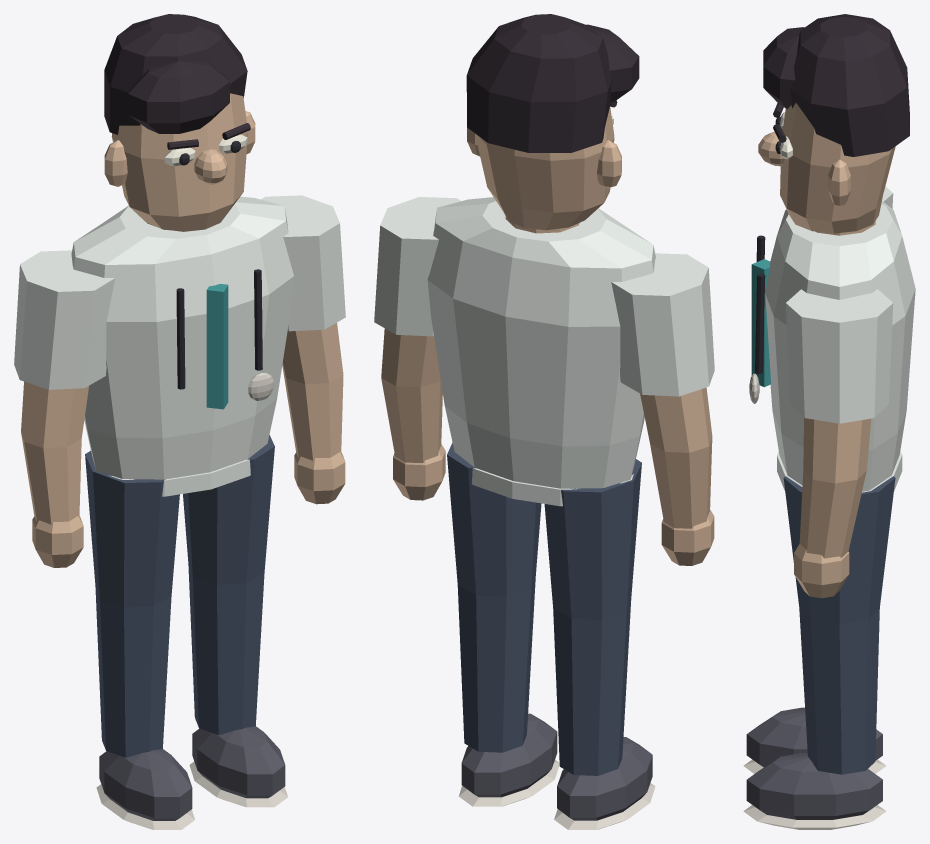
File: douglas.glb
3 views of the same model, side by side, from view 1: azimuth 30°, elevation 25°; view 2: azimuth 150°, elevation 25°; view 3: azimuth 270°, elevation 25° (orthographic). The views are drawn at different scales.
Visible parts, largest first — view 1: Torso, Leg, Leg.001, Sleeve, Face, Hair, Arm, Sleeve.001, Arm.001, Fringe, Shoe.001, Shoe (+10 smaller); view 2: Torso, Leg, Leg.001, Hair, Sleeve, Face, Arm, Sleeve.001, Arm.001, Shoe.001, Shoe, Hand (+6 smaller); view 3: Torso, Leg.001, Hair, Sleeve.001, Face, Arm.001, Shoe.001, Shoe, Fringe, Hand.001, Sole.001, Gravata (+4 smaller).
Boxes of the visible parts, x1,y1,x2,y2 form: Torso: [71, 196, 293, 479]; Leg: [85, 450, 179, 757]; Leg.001: [183, 435, 274, 734]; Sleeve: [14, 250, 115, 389]; Face: [111, 93, 247, 231]; Hair: [104, 14, 247, 134]; Arm: [21, 381, 88, 524]; Sleeve.001: [261, 195, 345, 331]; Arm.001: [282, 323, 343, 460]; Fringe: [128, 61, 229, 133]; Shoe.001: [192, 726, 285, 798]; Shoe: [99, 749, 192, 820]; Torso: [427, 197, 655, 488]; Leg: [544, 459, 641, 775]; Leg.001: [447, 442, 541, 752]; Hair: [466, 14, 611, 152]; Sleeve: [611, 253, 714, 396]; Face: [475, 106, 614, 230]; Arm: [640, 387, 712, 528]; Sleeve.001: [374, 197, 461, 336]; Arm.001: [381, 328, 442, 462]; Shoe.001: [461, 713, 557, 797]; Shoe: [557, 737, 652, 820]; Hand: [661, 509, 714, 565]; Torso: [765, 201, 915, 491]; Leg.001: [783, 476, 895, 774]; Hair: [789, 14, 909, 156]; Sleeve.001: [786, 289, 893, 423]; Face: [780, 103, 895, 233]; Arm.001: [799, 417, 871, 558]; Shoe.001: [746, 753, 882, 819]; Shoe: [746, 707, 882, 767]; Fringe: [763, 27, 804, 108]; Hand.001: [794, 544, 849, 598]; Sole.001: [743, 805, 886, 829]; Gravata: [751, 259, 770, 387].
Size of the model in its own units: 0.828 by 1.9 by 0.385.
